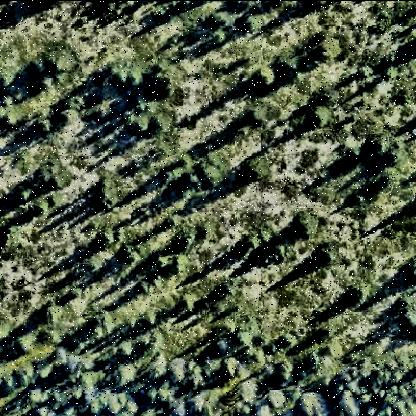tree-top: (143, 60, 181, 101), (40, 43, 76, 81), (90, 179, 122, 213), (37, 158, 68, 193), (106, 61, 142, 89), (240, 154, 271, 186), (195, 157, 226, 189), (311, 36, 343, 66), (239, 225, 269, 257), (121, 105, 153, 134), (288, 211, 318, 241), (166, 356, 192, 387), (218, 351, 244, 382), (345, 281, 374, 308), (297, 389, 326, 416), (253, 62, 280, 90), (312, 242, 339, 270), (175, 230, 205, 255), (397, 295, 416, 334), (112, 361, 140, 387), (239, 12, 265, 39), (1, 54, 17, 96), (307, 104, 332, 130), (266, 386, 290, 410), (88, 311, 111, 336), (13, 330, 36, 354), (41, 301, 63, 326), (335, 397, 362, 416), (170, 254, 191, 278), (24, 385, 48, 405), (368, 134, 389, 156), (15, 185, 35, 207), (119, 240, 139, 262), (302, 351, 324, 371), (59, 105, 81, 125), (1, 233, 18, 257), (53, 344, 73, 364)
